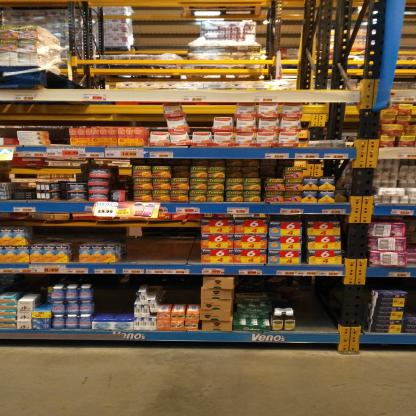Void: (127, 219, 196, 260), (33, 212, 117, 242), (66, 104, 157, 125), (298, 280, 332, 328), (3, 104, 58, 127), (100, 277, 133, 312), (230, 160, 282, 178), (162, 278, 197, 302), (2, 274, 33, 295), (190, 104, 212, 128), (36, 276, 50, 307), (48, 128, 68, 145), (59, 275, 90, 284), (172, 160, 187, 178), (273, 279, 285, 301), (380, 280, 405, 289), (213, 105, 233, 114), (247, 277, 258, 290)
